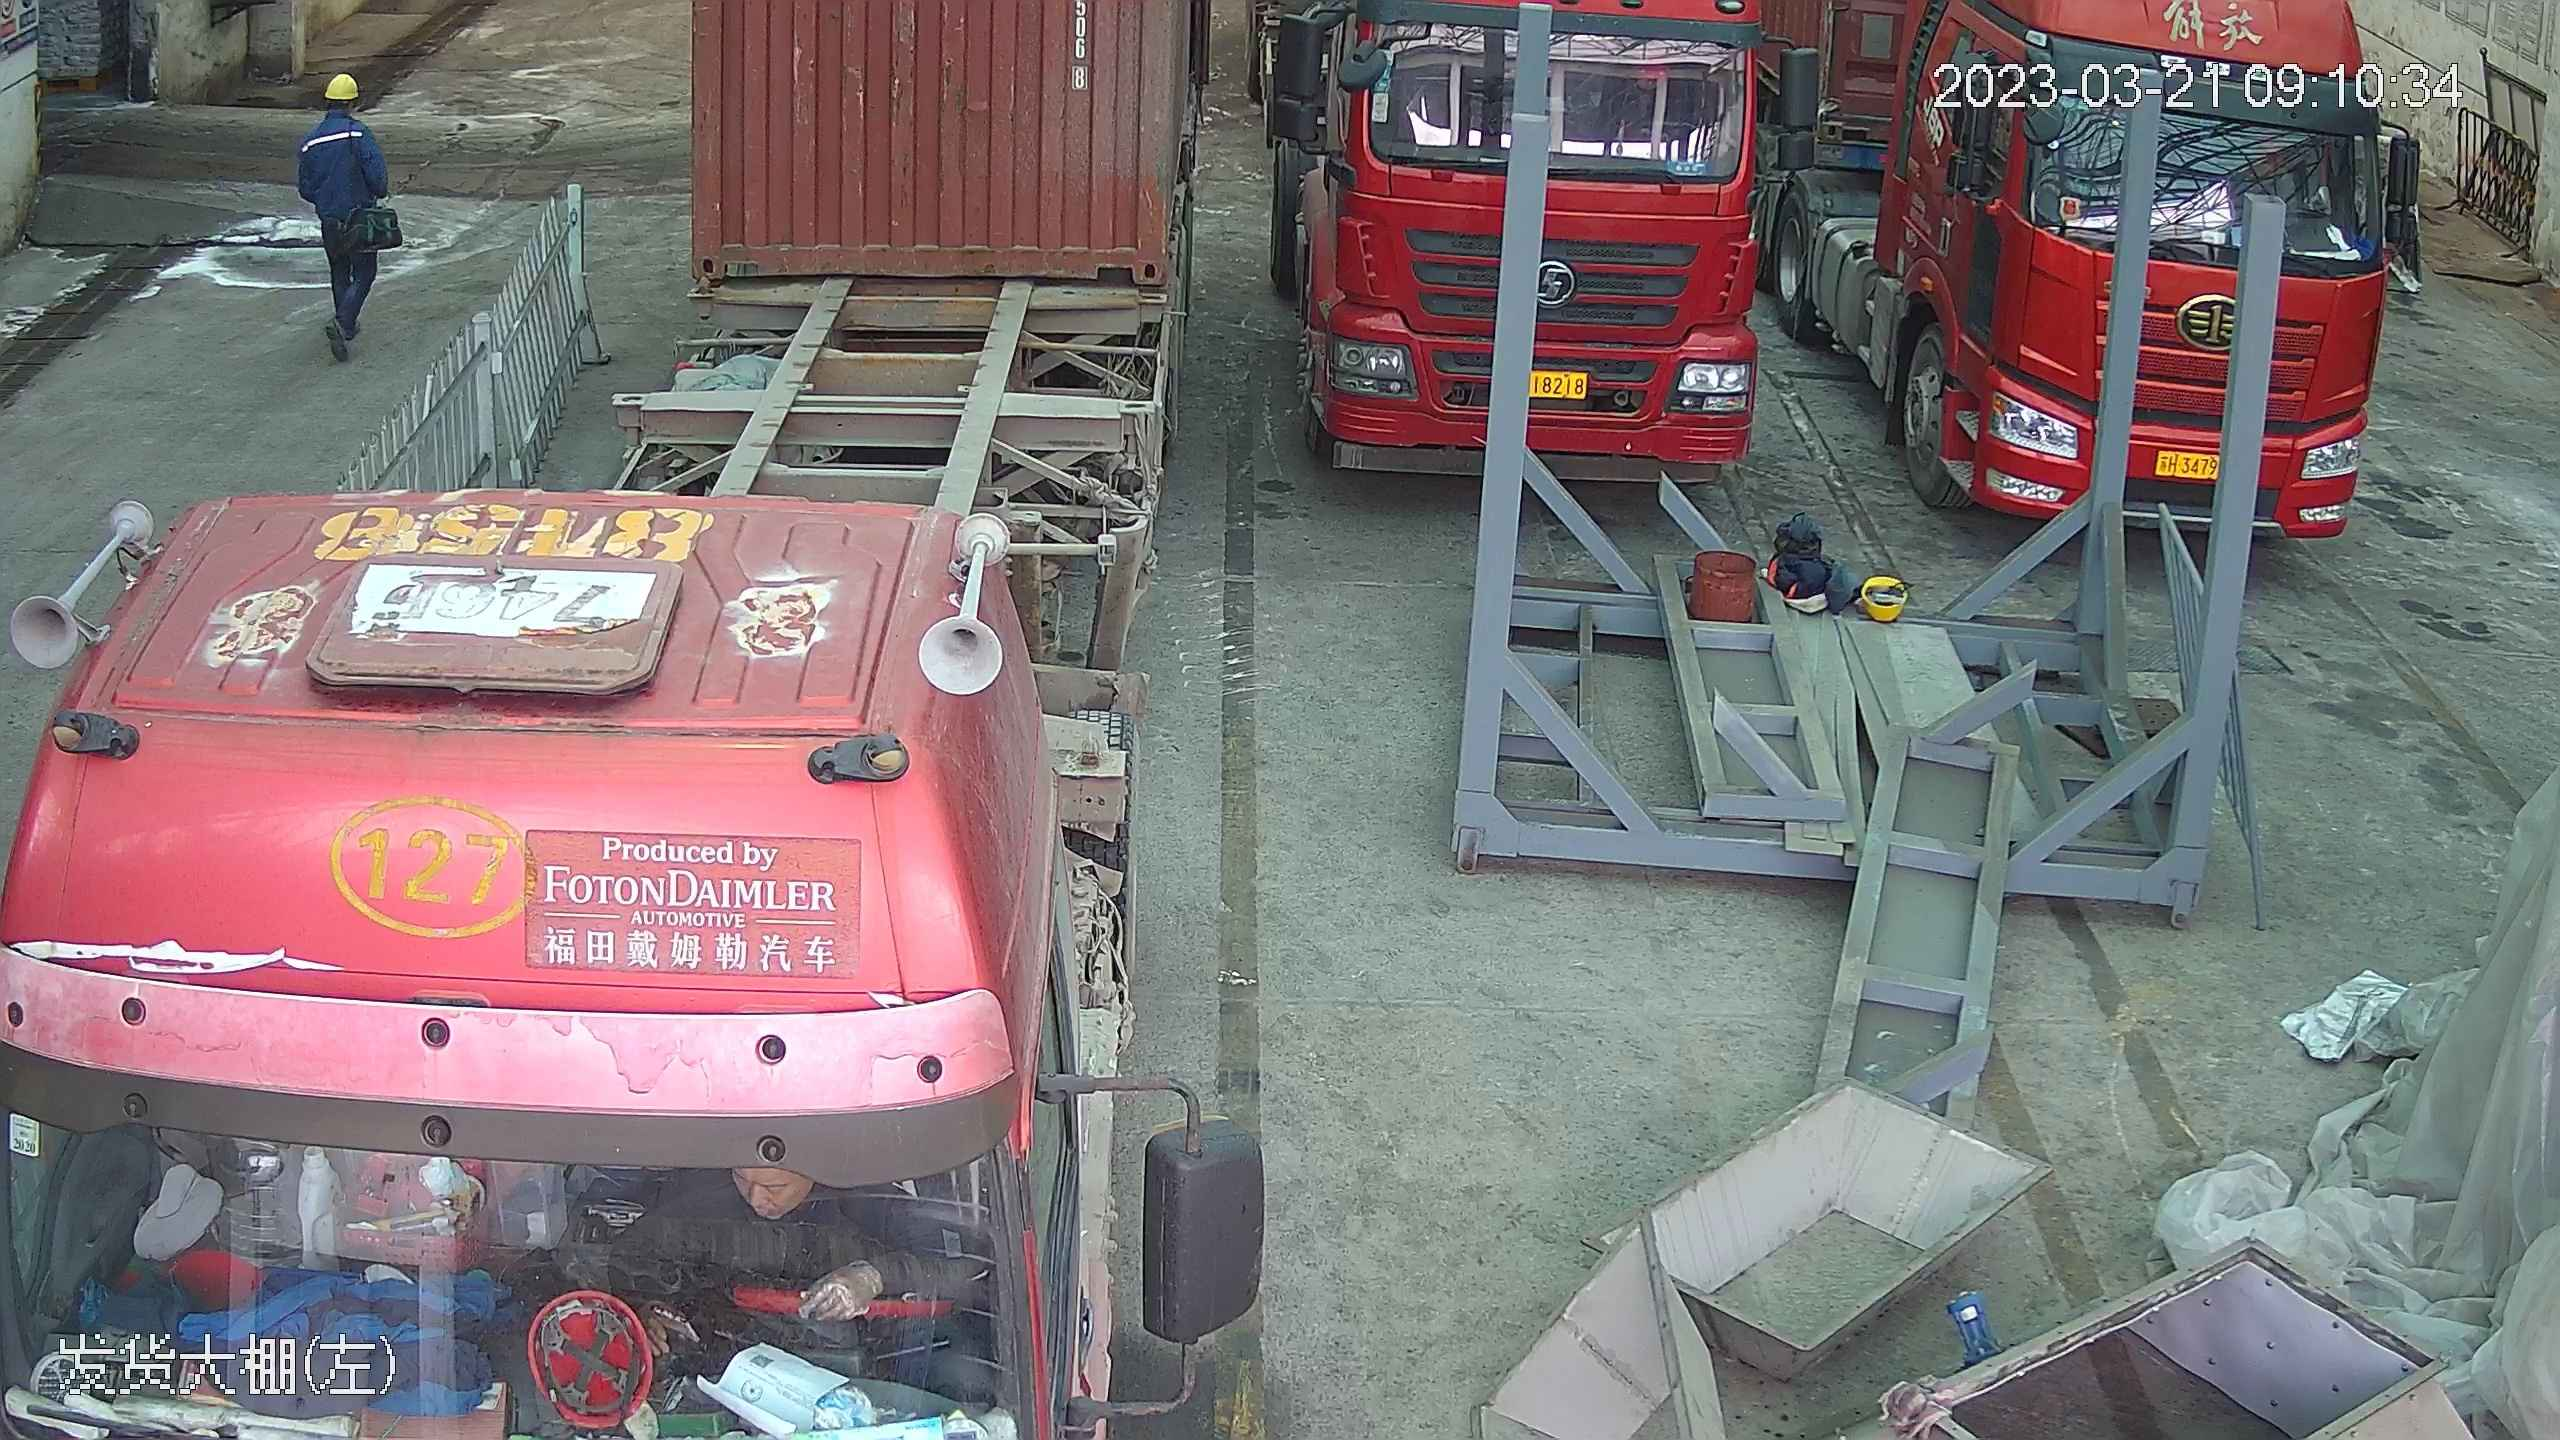head: (299, 67, 381, 159)
helmet: (320, 69, 364, 100)
people: (290, 61, 403, 367)
truck: (0, 0, 1176, 1440), (1806, 7, 2428, 542), (1256, 0, 1790, 484)
